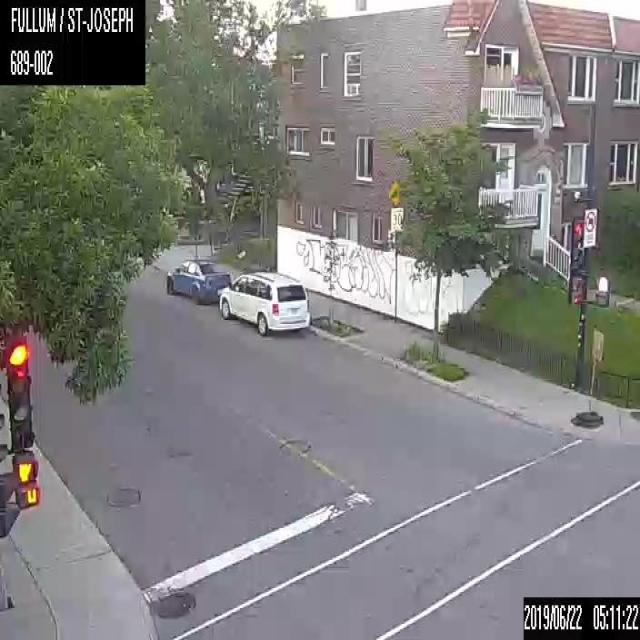construction: (569, 328, 603, 428)
vehicle: (216, 271, 311, 336), (164, 257, 230, 305)
